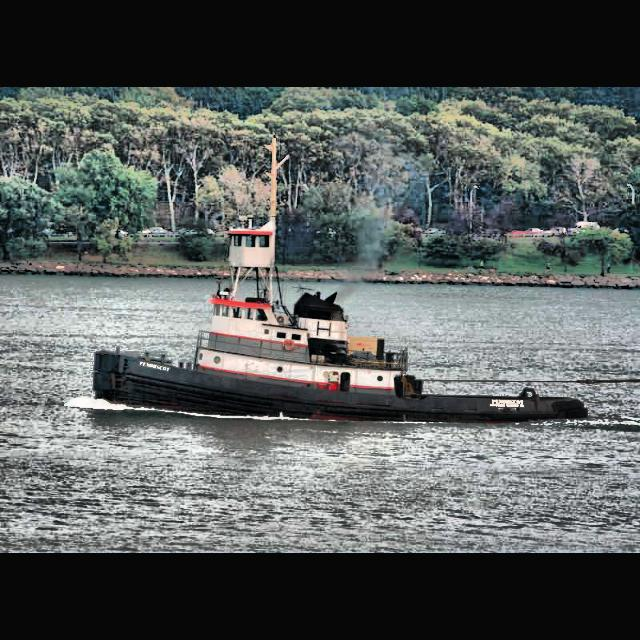tug: (92, 216, 590, 428)
